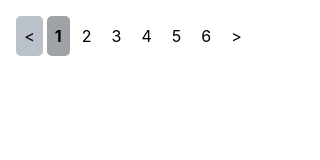
Scenario: renders the pagination third page selected
The image size is (320, 160).
Click the button "3" at point(116, 36), box [104,16,129,56]
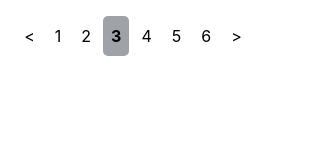
Expected: the button ">" is enabled, [223,16,250,56]
Expected: the button "<" is enabled, [16,16,43,56]
